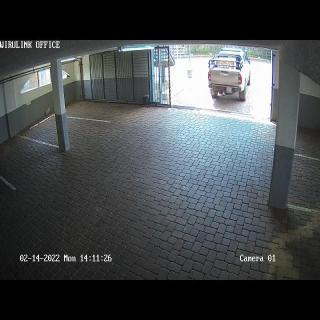car: (208, 47, 251, 100)
